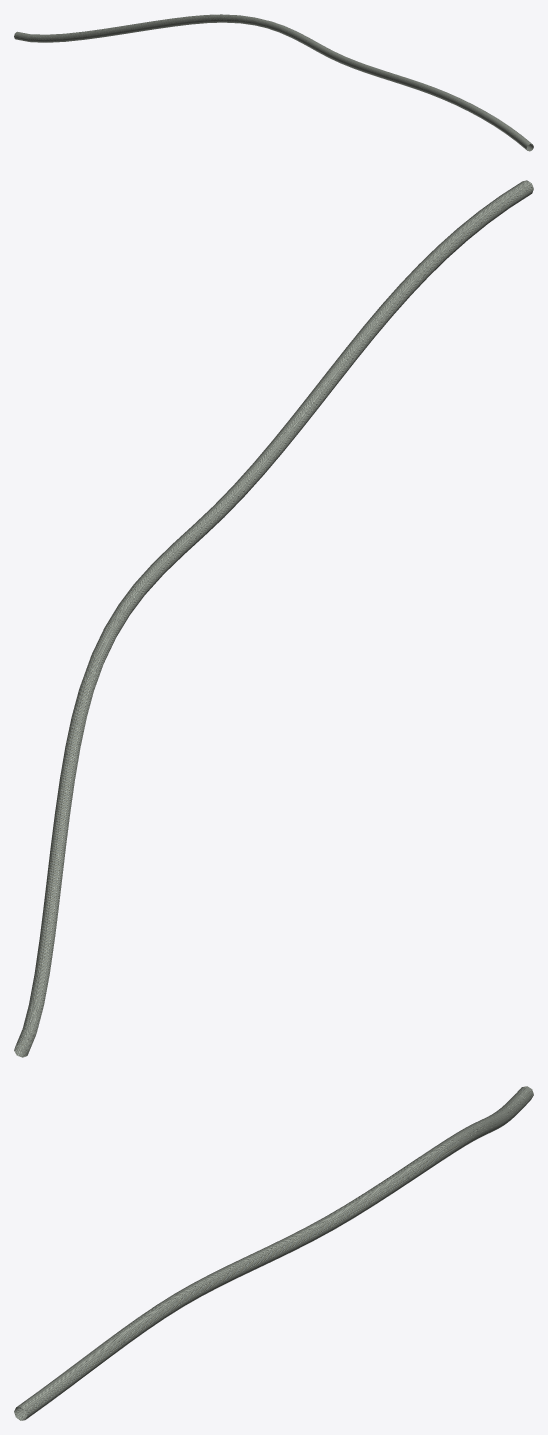
The model's file is microtubule42.fbx.
The picture shows the model from 3 angles, top to bottom: view 1: azimuth 30°, elevation 25°; view 2: azimuth 150°, elevation 25°; view 3: azimuth 330°, elevation 25°; orthographic projection. The views are drawn at different scales.
Visible parts, largest first — view 1: microtubule42; view 2: microtubule42; view 3: microtubule42.
Part boxes in pixels (bbox=[...]): microtubule42: bbox=[14, 14, 533, 151]; microtubule42: bbox=[14, 180, 533, 1057]; microtubule42: bbox=[14, 1086, 533, 1420].
Size of the model in its own units: 2655 by 3011 by 13970.
Materials: 1 (1 with a texture image).
